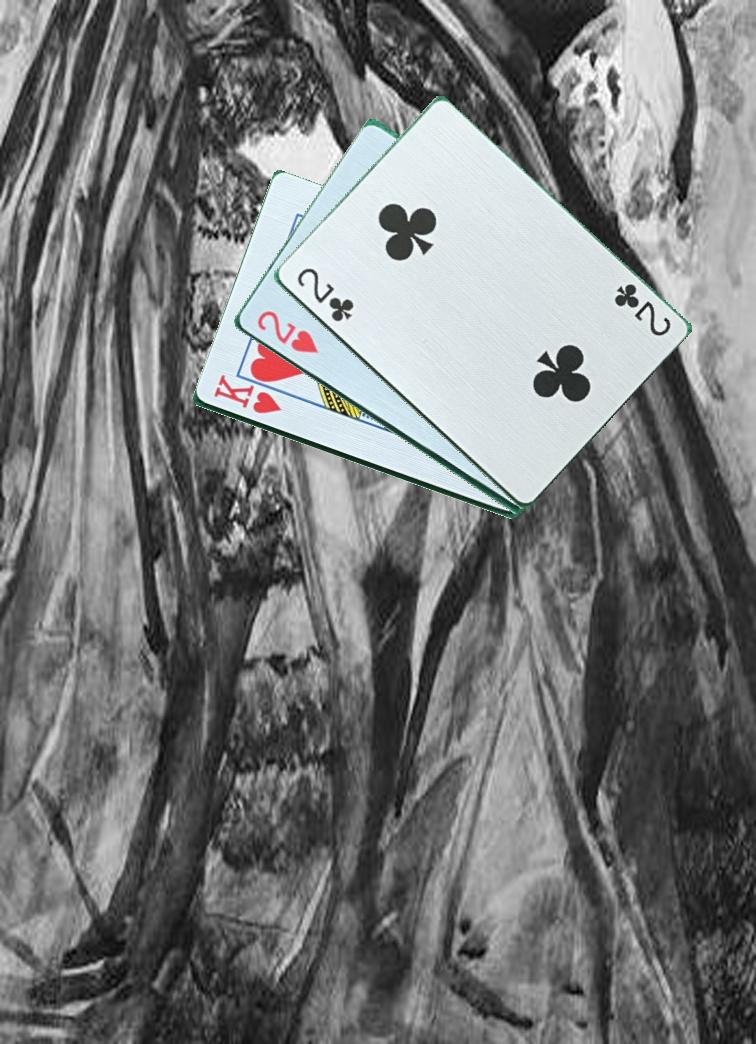2c: (609, 279, 674, 340), (292, 264, 356, 325)
2h: (252, 305, 322, 357)
kh: (209, 374, 287, 417)
